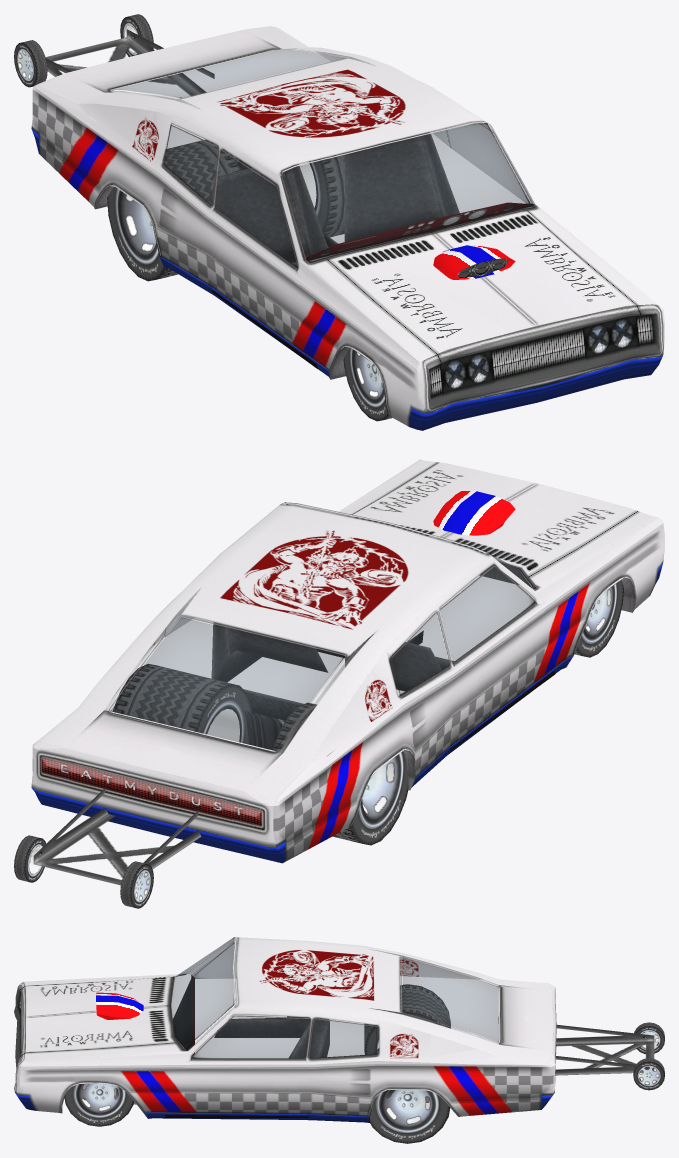
3 views of the same model, one above another, from view 1: azimuth 30°, elevation 25°; view 2: azimuth 150°, elevation 25°; view 3: azimuth 270°, elevation 25° (orthographic). The views are drawn at different scales.
Parts seen in each view (by area): view 1: BODY, INTERIOR, WHEEL_2, WHEEL_3, ADDON_1, ADDON_0, WHEEL_0, WHEEL_4, WHEEL_5; view 2: BODY, INTERIOR, WHEEL_3, WHEEL_2, ADDON_1, ADDON_0, WHEEL_0, WHEEL_4, WHEEL_5; view 3: BODY, INTERIOR, WHEEL_3, ADDON_1, WHEEL_1, WHEEL_2, ADDON_0, WHEEL_5, WHEEL_4.
Part boxes in pixels (x1=…): BODY: x1=31, y1=26, x2=664, y2=430; INTERIOR: x1=209, y1=132, x2=534, y2=368; WHEEL_2: x1=107, y1=139, x2=240, y2=281; WHEEL_3: x1=299, y1=153, x2=345, y2=237; ADDON_1: x1=45, y1=29, x2=214, y2=96; ADDON_0: x1=433, y1=245, x2=515, y2=279; WHEEL_0: x1=343, y1=347, x2=391, y2=421; WHEEL_4: x1=14, y1=40, x2=47, y2=87; WHEEL_5: x1=120, y1=14, x2=153, y2=56; BODY: x1=31, y1=459, x2=664, y2=863; INTERIOR: x1=211, y1=622, x2=555, y2=754; WHEEL_3: x1=112, y1=664, x2=251, y2=744; WHEEL_2: x1=272, y1=702, x2=408, y2=845; ADDON_1: x1=33, y1=788, x2=201, y2=885; ADDON_0: x1=433, y1=491, x2=515, y2=535; WHEEL_0: x1=574, y1=580, x2=623, y2=657; WHEEL_4: x1=120, y1=861, x2=153, y2=908; WHEEL_5: x1=14, y1=835, x2=46, y2=882; BODY: x1=14, y1=937, x2=556, y2=1122; INTERIOR: x1=164, y1=975, x2=498, y2=1117; WHEEL_3: x1=370, y1=1048, x2=450, y2=1143; ADDON_1: x1=555, y1=1024, x2=654, y2=1075; WHEEL_1: x1=64, y1=1084, x2=134, y2=1126; WHEEL_2: x1=364, y1=984, x2=450, y2=1054; ADDON_0: x1=96, y1=992, x2=143, y2=1019; WHEEL_5: x1=633, y1=1058, x2=664, y2=1090; WHEEL_4: x1=634, y1=1022, x2=664, y2=1053.
Size of the model in its own units: 1.96 by 1.41 by 6.17.
Materials: 29 (29 with a texture image).
